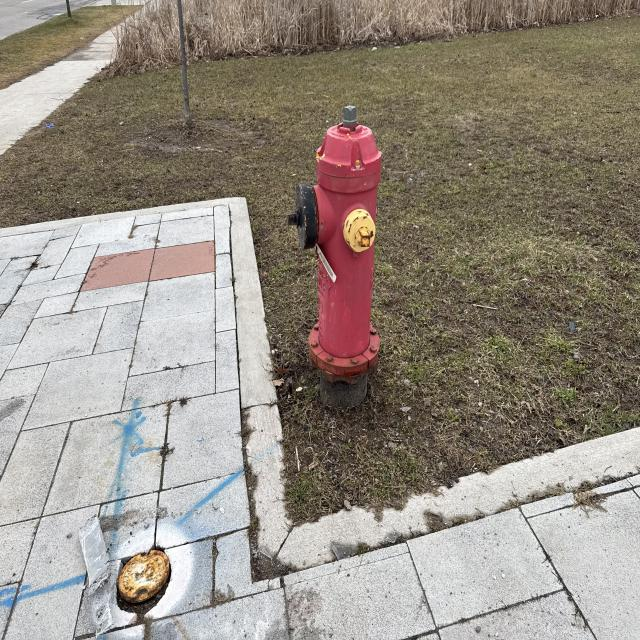Fire hydrant: (285, 105, 383, 385)
